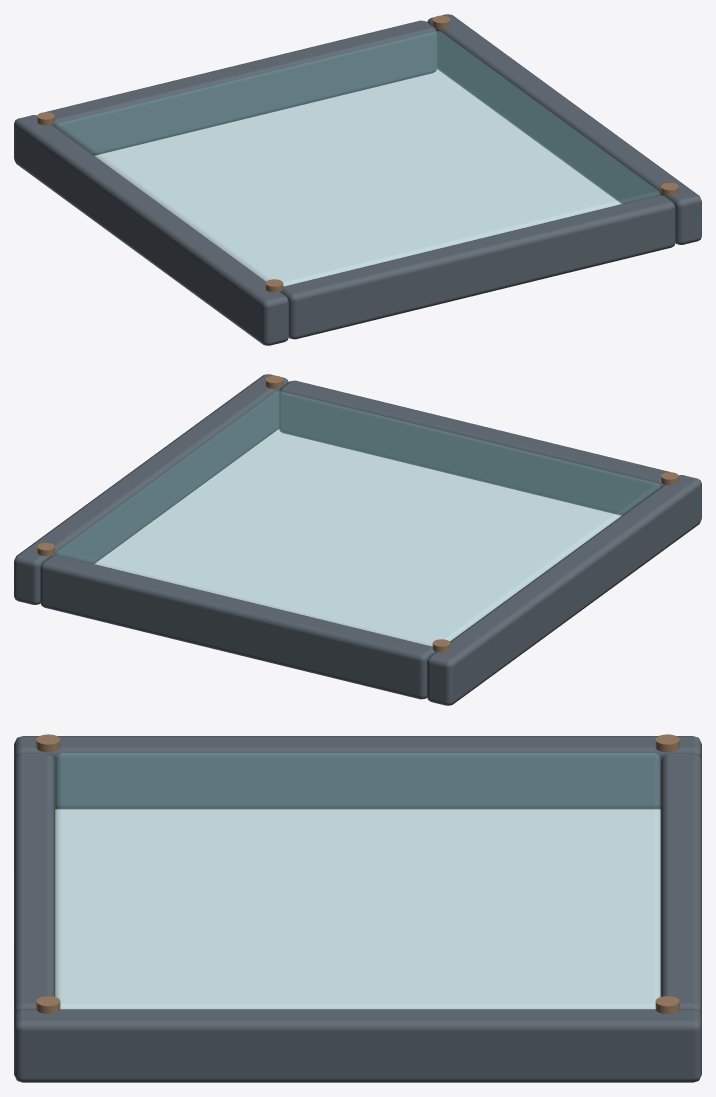
File: arena-shooter-map-kit-glass-floor-53a593bc__23081.glb
3 renders of one model, top to bottom at view 1: azimuth 30°, elevation 25°; view 2: azimuth 150°, elevation 25°; view 3: azimuth 270°, elevation 25°, orthographic. The views are drawn at different scales.
Visible parts, largest first — view 1: glass-floor; view 2: glass-floor; view 3: glass-floor.
Part boxes in pixels (x1=…): glass-floor: x1=14, y1=14, x2=701, y2=345; glass-floor: x1=14, y1=374, x2=701, y2=705; glass-floor: x1=14, y1=734, x2=701, y2=1082.
Bounding box in the file's own units: 2 × 0.225 × 2.
